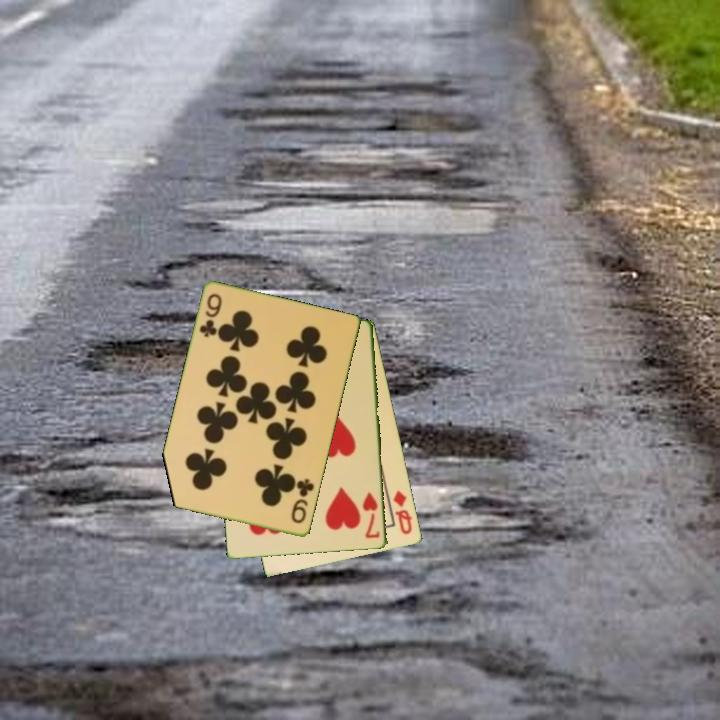7h: (360, 489, 383, 542)
9c: (288, 475, 317, 527), (196, 290, 225, 341)
Qd: (390, 487, 415, 538)
